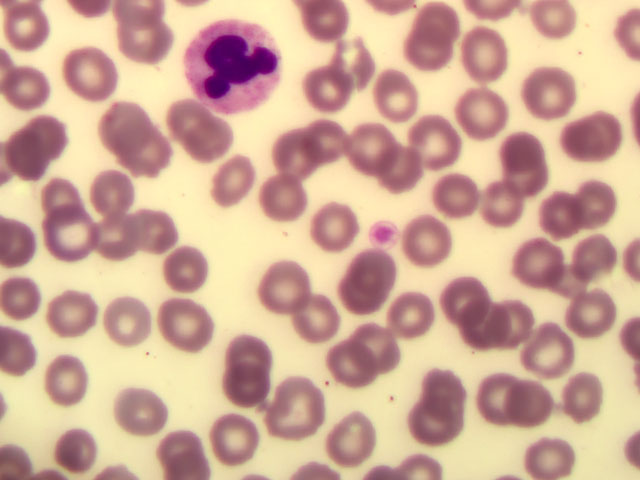Platelets: (368, 222, 399, 244)
RBC: (4, 3, 57, 52), (62, 46, 115, 95), (1, 64, 54, 113), (28, 110, 81, 159), (11, 133, 64, 182), (36, 174, 89, 223), (47, 211, 100, 260), (79, 169, 132, 218), (118, 130, 171, 179), (95, 96, 148, 145), (156, 90, 209, 139), (181, 111, 234, 160), (115, 14, 168, 63), (201, 153, 254, 202), (129, 206, 182, 255), (99, 219, 152, 268), (45, 287, 98, 336), (4, 273, 57, 322), (103, 294, 156, 343), (159, 246, 212, 295), (159, 299, 212, 348), (39, 355, 92, 404), (115, 383, 168, 432), (55, 425, 108, 474), (152, 421, 205, 470), (211, 416, 264, 465), (216, 363, 269, 412), (225, 334, 278, 383), (259, 261, 312, 310), (293, 296, 346, 345), (320, 342, 373, 391), (345, 325, 398, 374), (381, 292, 434, 341), (348, 244, 401, 293), (332, 266, 385, 315), (308, 201, 361, 250), (261, 170, 314, 219), (261, 133, 314, 182), (295, 114, 348, 163), (294, 70, 347, 119), (371, 68, 424, 117), (400, 27, 453, 76), (411, 1, 464, 50), (464, 33, 517, 82), (461, 90, 514, 139), (417, 113, 470, 162), (388, 147, 441, 196), (348, 125, 401, 174), (430, 172, 483, 221), (403, 214, 456, 263), (437, 279, 490, 328), (470, 306, 523, 355), (487, 297, 540, 346), (514, 236, 567, 285), (533, 187, 586, 236), (562, 177, 615, 226), (497, 153, 550, 202), (480, 174, 533, 223), (498, 124, 551, 173), (525, 67, 578, 116), (557, 113, 610, 162), (580, 104, 633, 153), (573, 224, 626, 273), (549, 252, 602, 301), (562, 291, 615, 340), (522, 320, 575, 369), (557, 371, 610, 420), (499, 376, 552, 425), (465, 371, 518, 420), (425, 360, 478, 409), (409, 396, 462, 445), (322, 414, 375, 463), (518, 431, 571, 480), (303, 1, 356, 49)
WBC: (184, 21, 283, 116)
